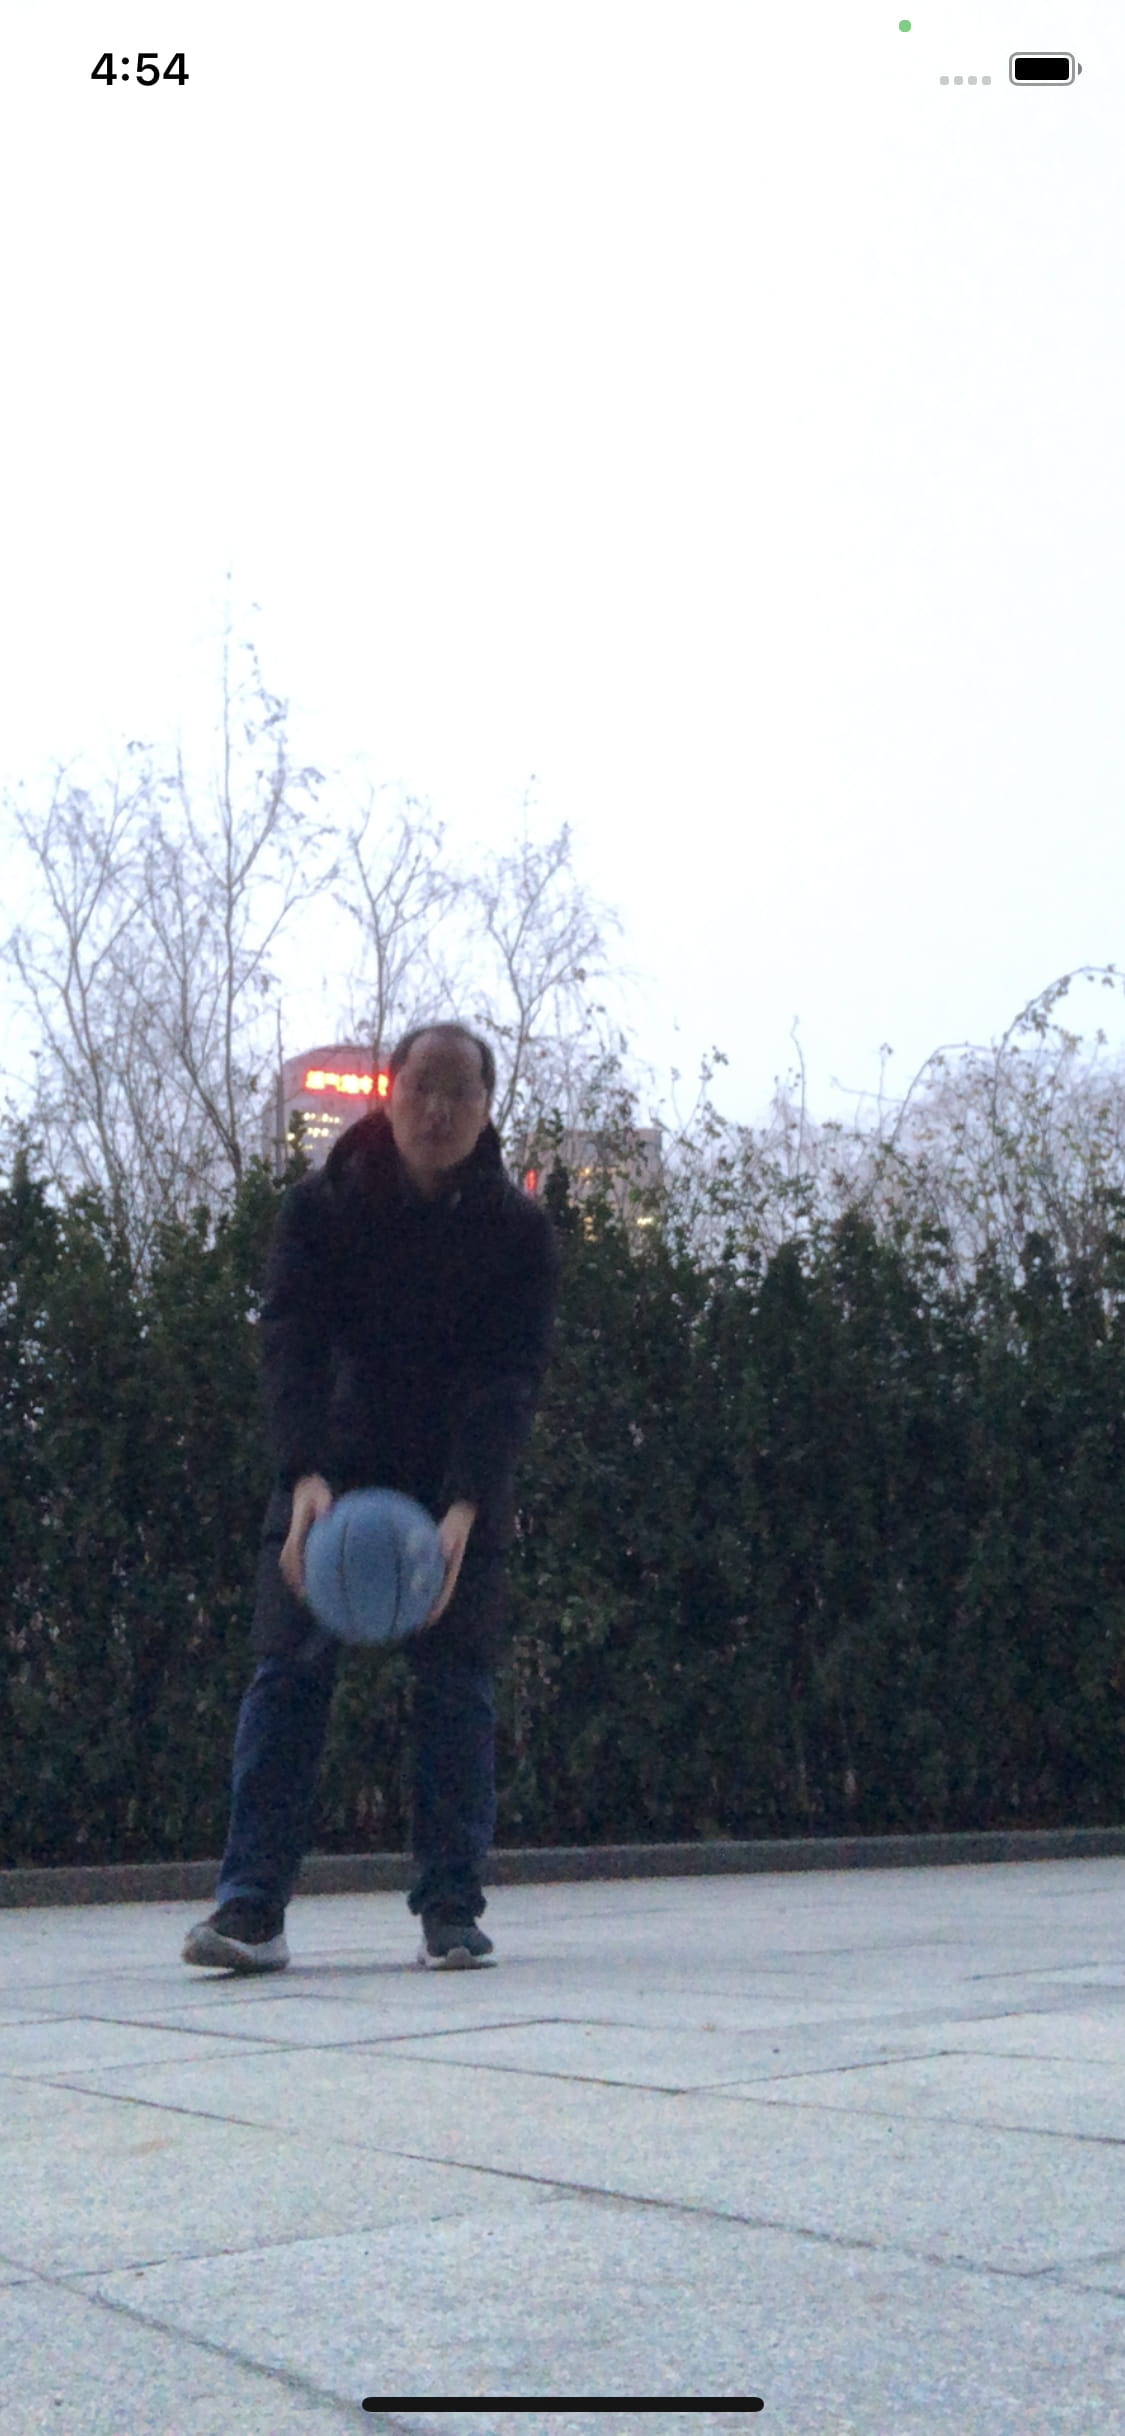ball: (295, 1491, 451, 1644)
